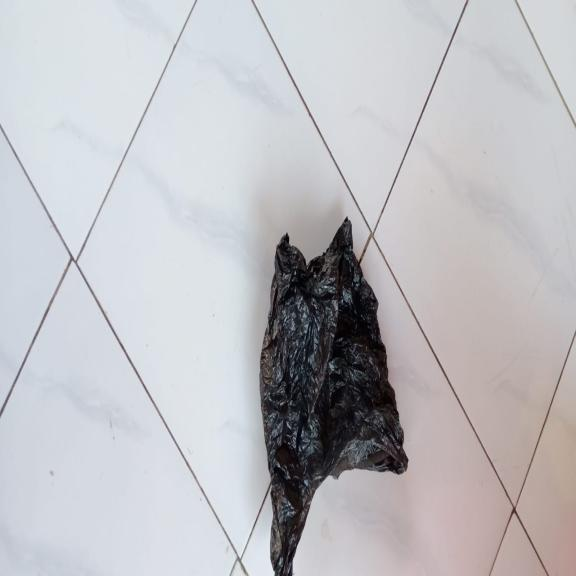Plastik: (258, 216, 410, 575)
